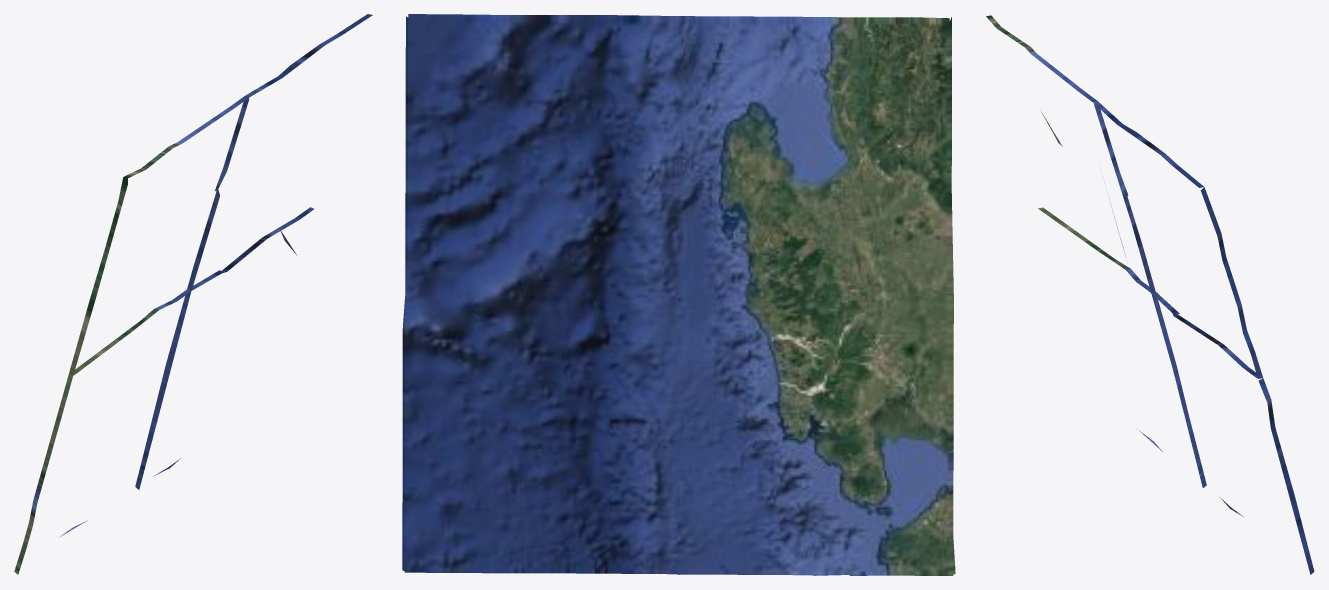
The picture shows the model from 3 angles, left to right: view 1: azimuth 30°, elevation 25°; view 2: azimuth 150°, elevation 25°; view 3: azimuth 270°, elevation 25°; orthographic projection. The views are drawn at different scales.
Size of the model in its own units: 310863 by 306841 by 219510.
Materials: 1 (1 with a texture image).
